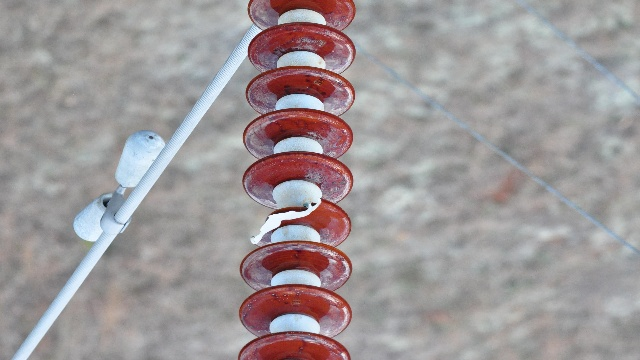broken_local: (251, 196, 324, 246)
insulator_unspecified: (237, 0, 359, 359)
